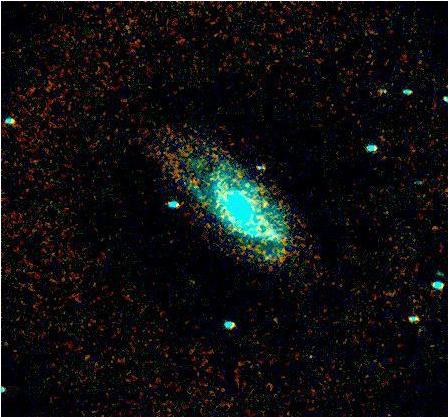star: (247, 186, 277, 216)
